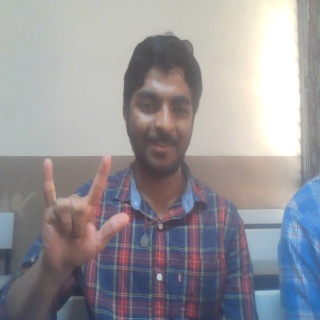Face: (120, 33, 202, 180)
I Love You: (36, 153, 133, 274)
